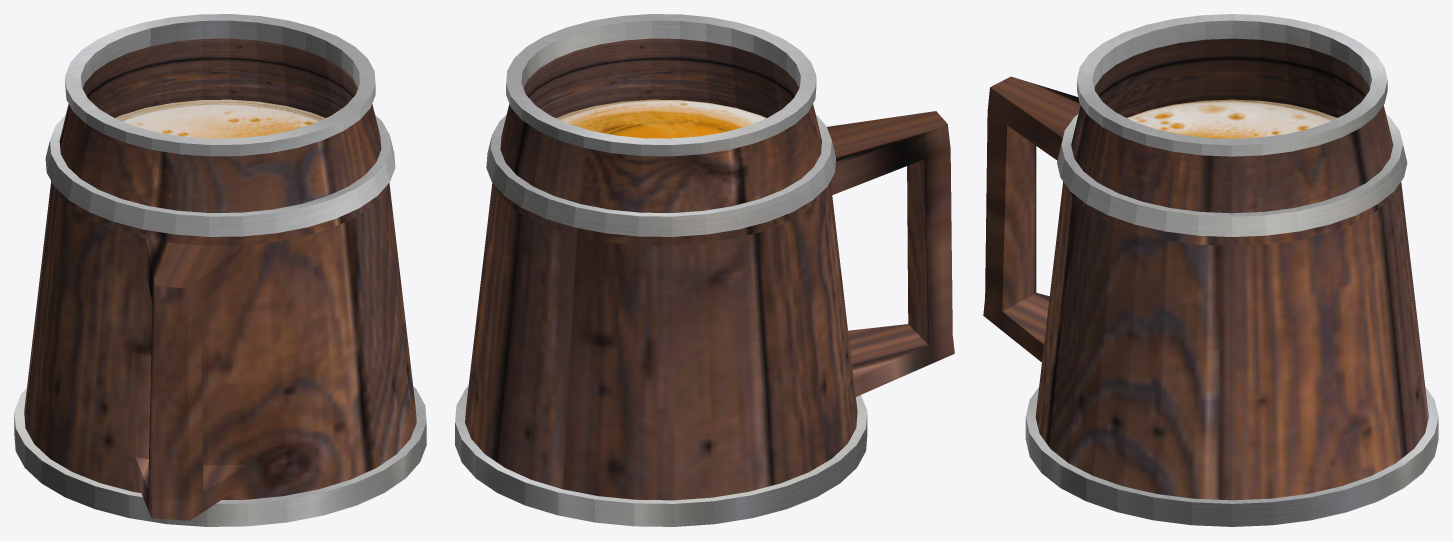
File: mug.glb
3 views of the same model, side by side, from view 1: azimuth 30°, elevation 25°; view 2: azimuth 150°, elevation 25°; view 3: azimuth 270°, elevation 25° (orthographic).
Parts seen in each view (by area): view 1: Cylinder; view 2: Cylinder; view 3: Cylinder.
Part boxes in pixels (x1=…): Cylinder: x1=14, y1=14, x2=426, y2=526; Cylinder: x1=455, y1=14, x2=954, y2=526; Cylinder: x1=983, y1=14, x2=1438, y2=526.
Size of the model in its own units: 2.32 by 2.22 by 2.55.
2 materials, 2 textured.
